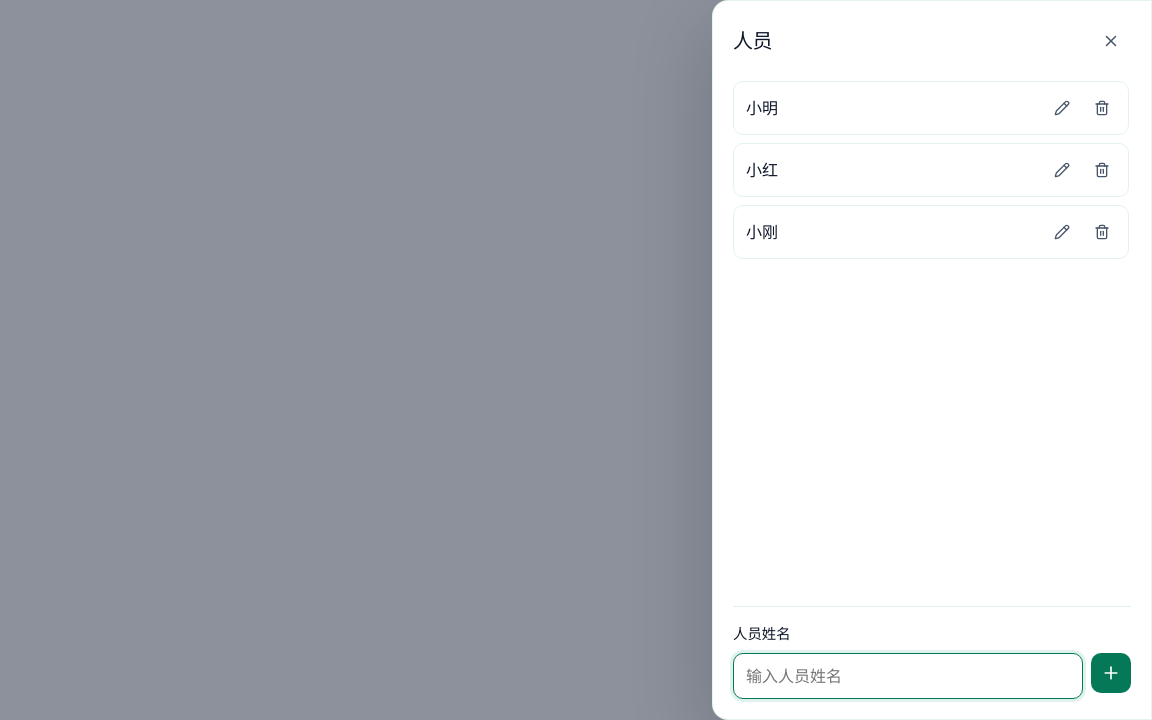
Scenario: PeopleDrawer › shows a duplicate error without mutating
This screenshot has width=1152, height=720.
In the field labelled "人员姓名": (908, 676) x1=733 y1=653 x2=1083 y2=699, type "小明"
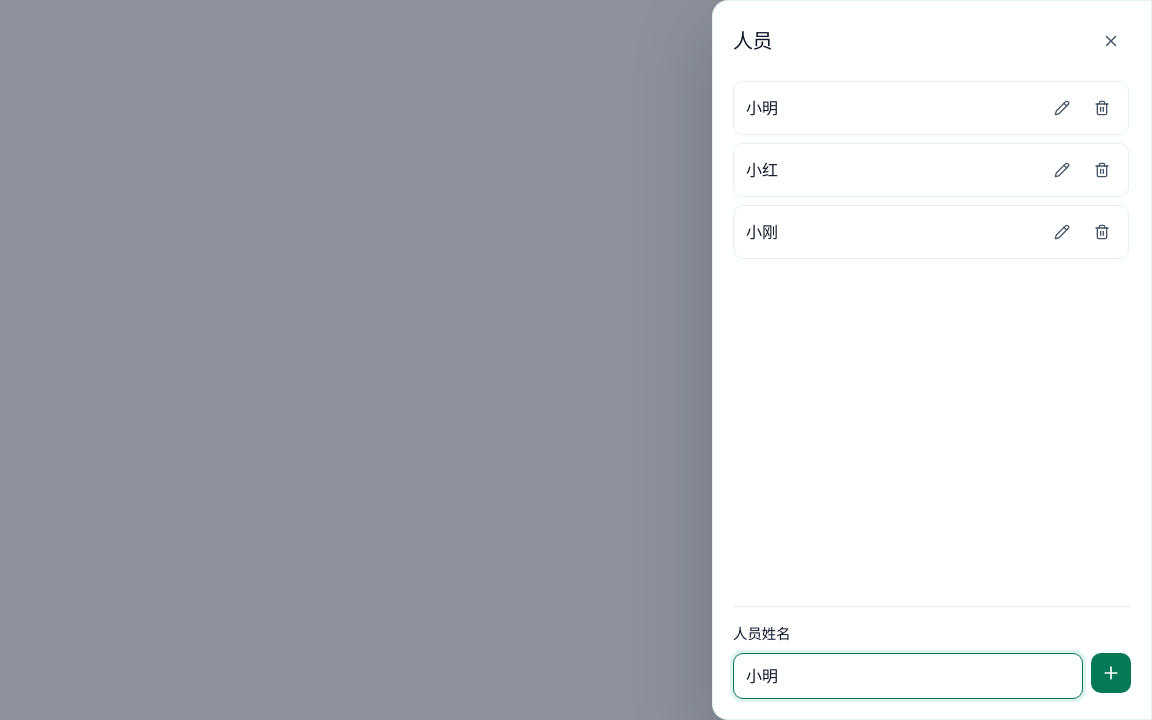
Click the button named "添加人员": (1111, 673) x1=1091 y1=653 x2=1131 y2=693
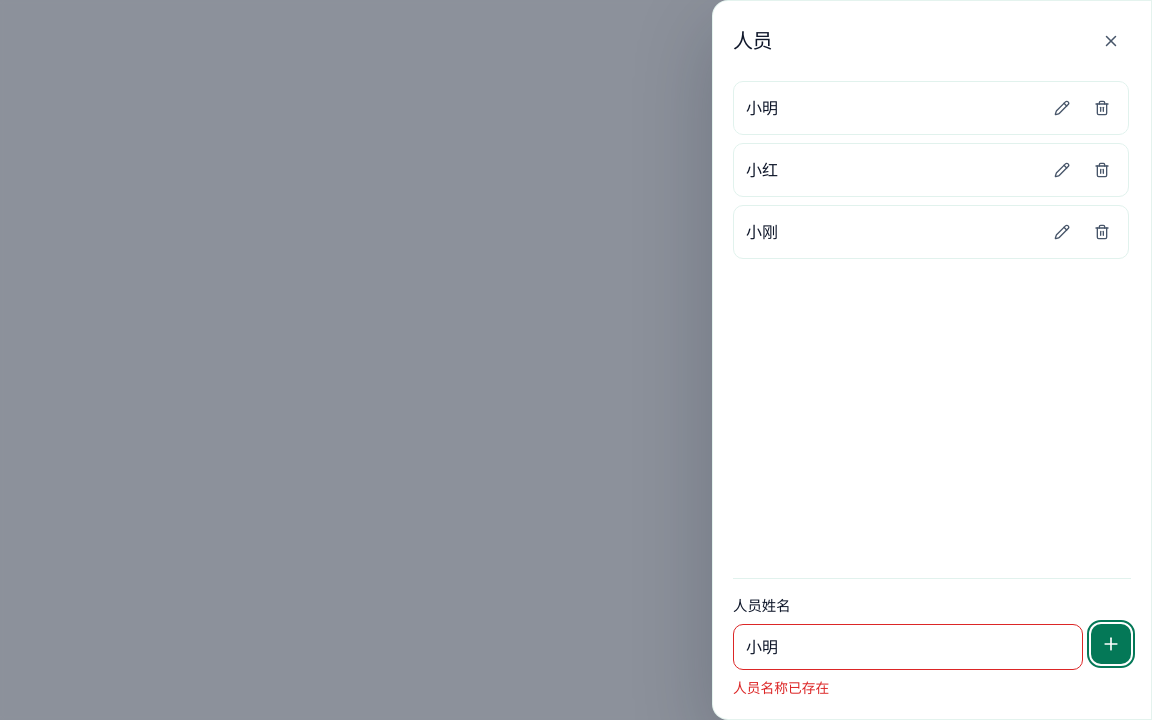
Now the text "人员名称已存在" is shown, box x1=733 y1=678 x2=829 y2=697
